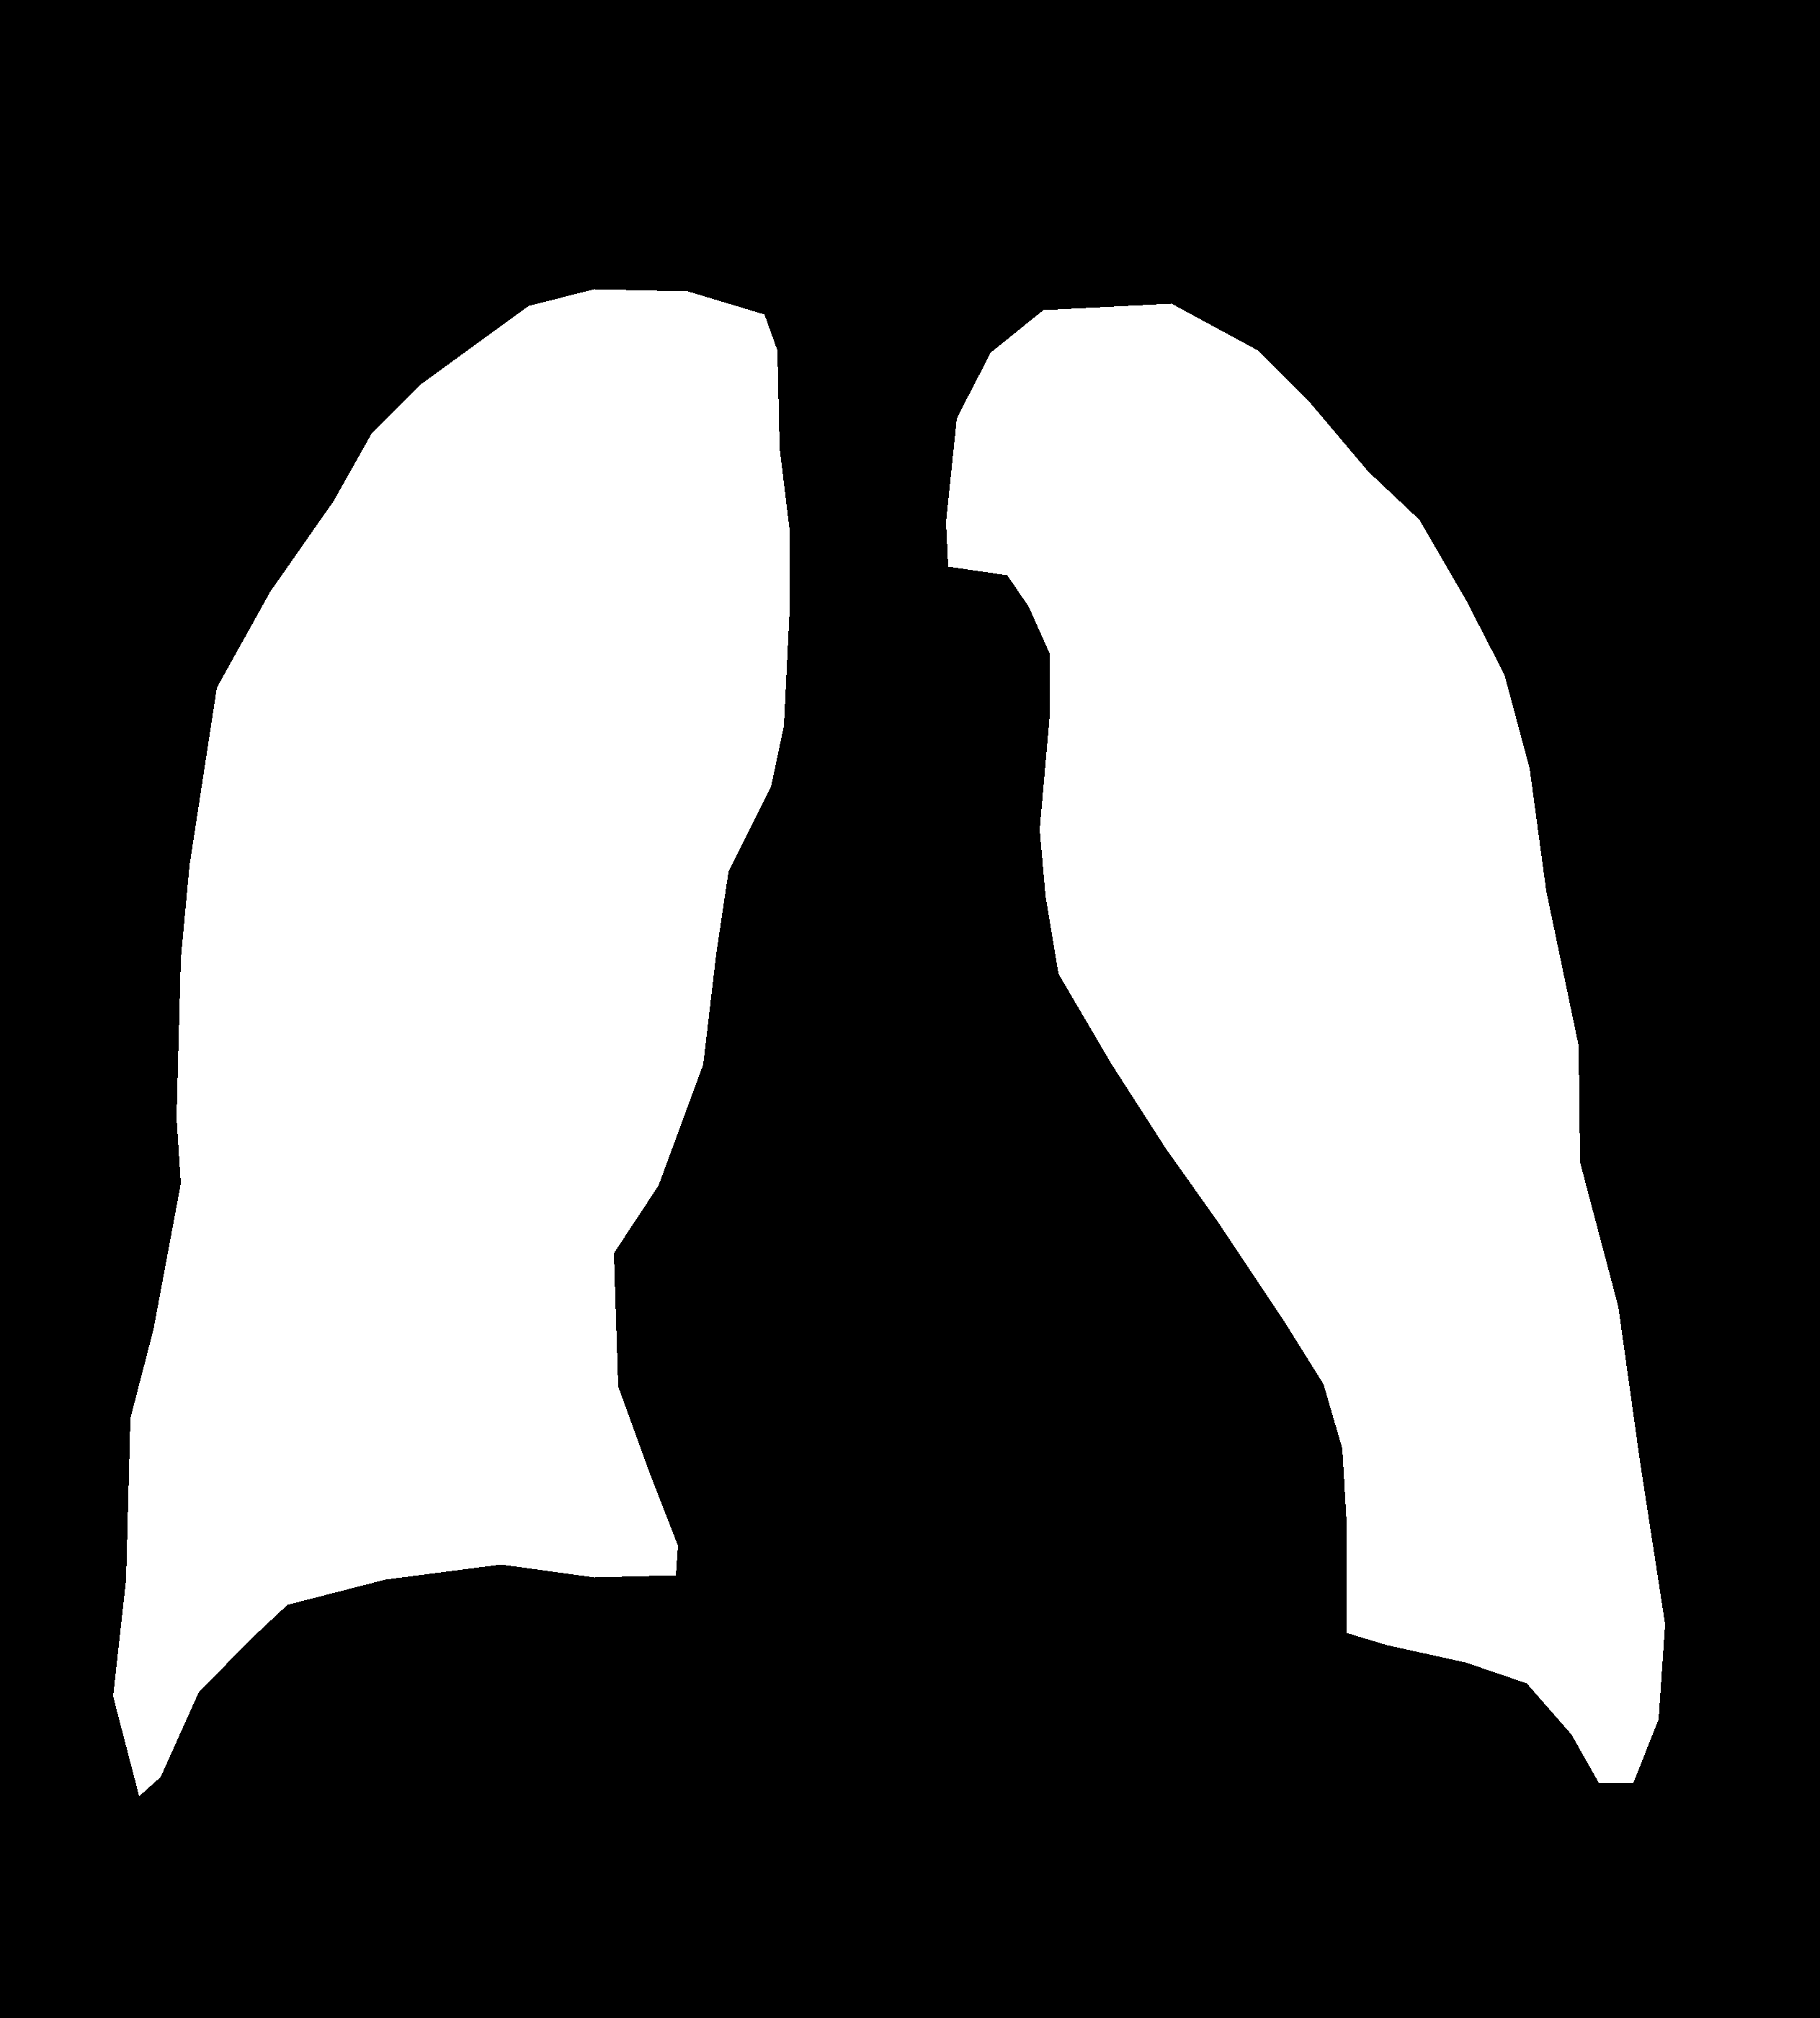heart: (620, 843, 1339, 1661)
left_lung: (112, 288, 789, 1795)
right_lung: (947, 304, 1664, 1783)
